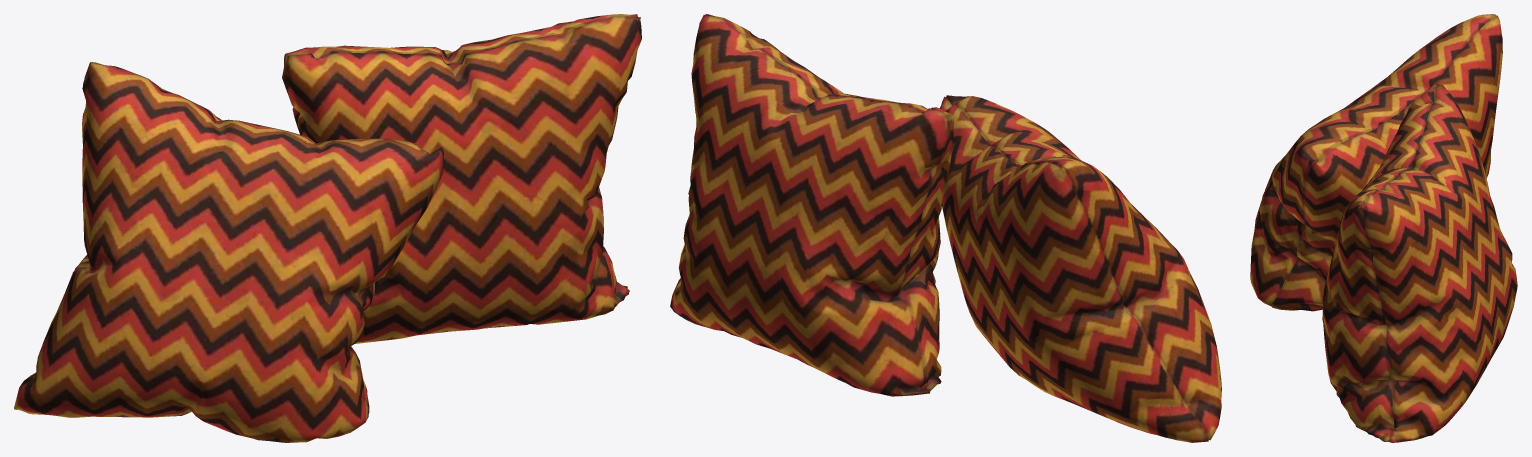
File: throw_pillows_01.glb
3 views of the same model, side by side, from view 1: azimuth 30°, elevation 25°; view 2: azimuth 150°, elevation 25°; view 3: azimuth 270°, elevation 25° (orthographic). The views are drawn at different scales.
Visible parts, largest first — view 1: throw_pillows_01_pillow02; view 2: throw_pillows_01_pillow02; view 3: throw_pillows_01_pillow02.
Boxes of the visible parts, left/top/right/bottom form: throw_pillows_01_pillow02: left=14, top=14, right=641, bottom=442; throw_pillows_01_pillow02: left=670, top=14, right=1221, bottom=442; throw_pillows_01_pillow02: left=1250, top=14, right=1517, bottom=442.
Size of the model in its own units: 0.9401 by 0.4502 by 0.4519.
1 material, 1 textured.
